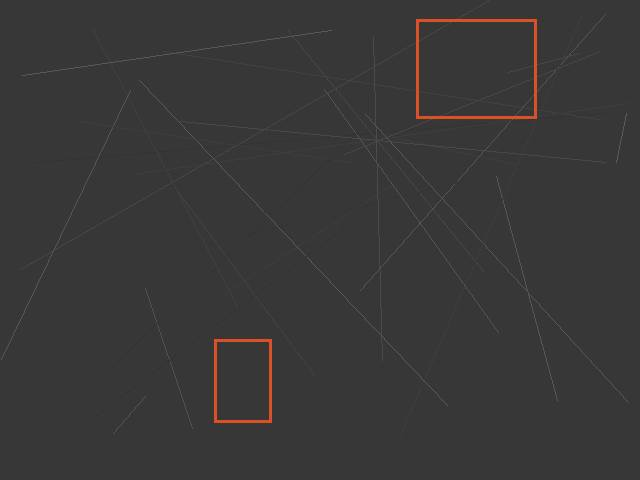D10: (214, 339, 271, 422)
D20: (416, 19, 536, 118)
